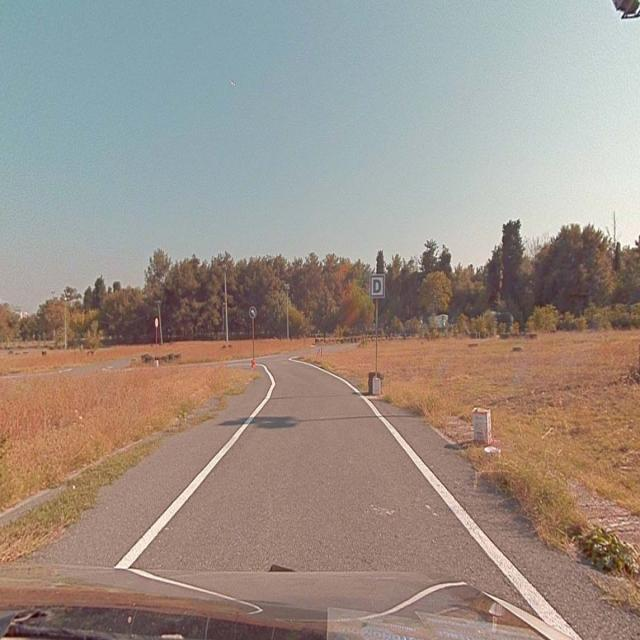durak: (370, 275, 385, 297)
